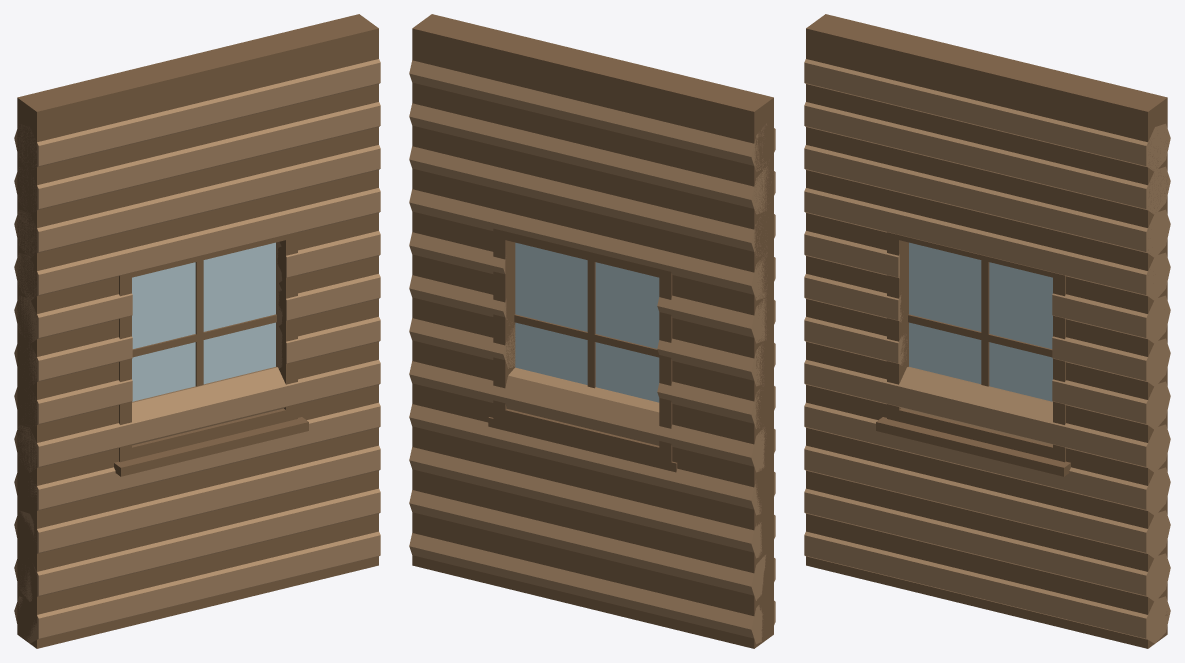
File: SM_Wall_Log_Window.glb
3 views of the same model, side by side, from view 1: azimuth 30°, elevation 25°; view 2: azimuth 150°, elevation 25°; view 3: azimuth 330°, elevation 25° (orthographic).
Visible parts, largest first — view 1: SM_Wall_Log_Window; view 2: SM_Wall_Log_Window; view 3: SM_Wall_Log_Window.
Boxes of the visible parts, box(x1,y1,x2,y2) form: SM_Wall_Log_Window: box(14, 14, 380, 648); SM_Wall_Log_Window: box(409, 14, 775, 648); SM_Wall_Log_Window: box(804, 14, 1170, 648).
Bounding box in the file's own units: 2 × 3 × 0.3.
